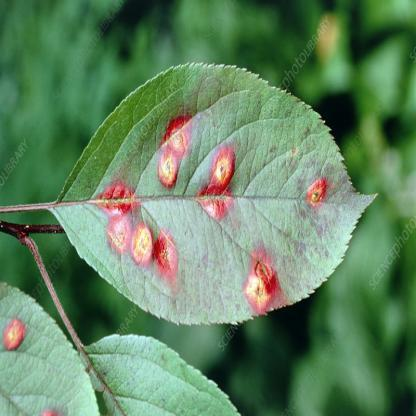Apple rust leaf: (46, 61, 378, 329)
